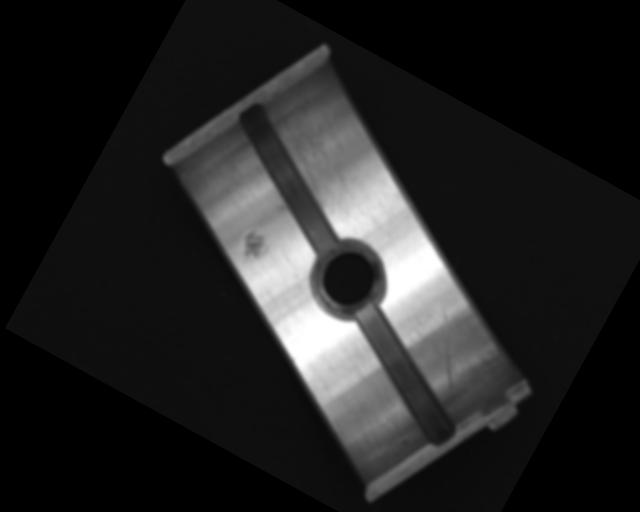bruise: (232, 227, 271, 270)
gap: (198, 98, 379, 261), (319, 299, 488, 450)
hole: (299, 230, 395, 329)
nick: (409, 307, 486, 393)
scratch: (248, 86, 392, 227)
